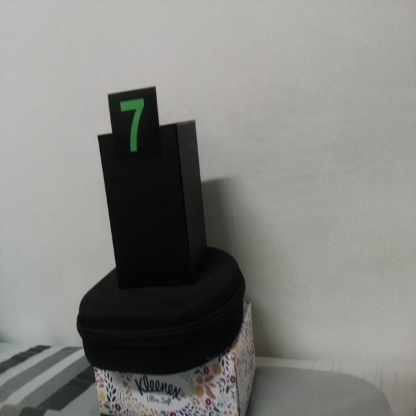id_7: (110, 93, 160, 176)
